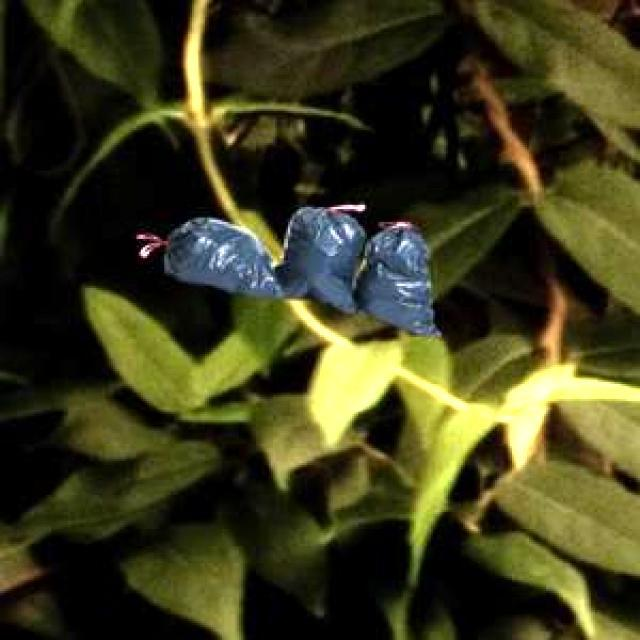Garbage_Bag: (163, 202, 436, 332)
